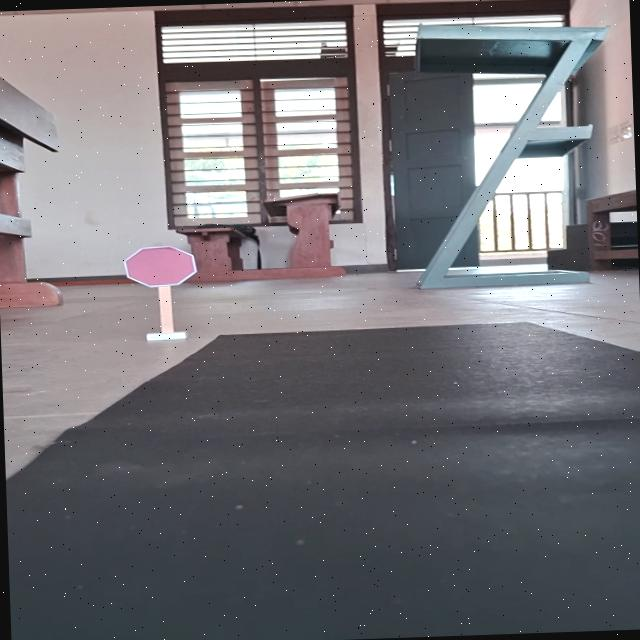Stop: (121, 243, 200, 289)
